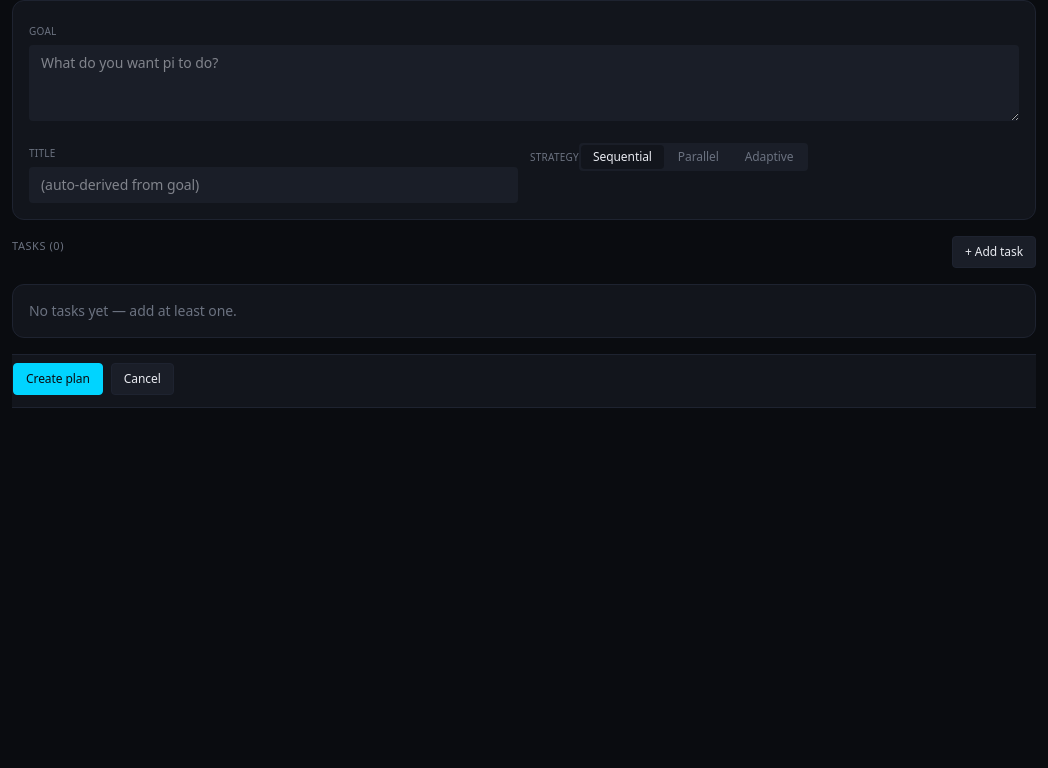
Test: PlanEditor › blocks submit when goal is empty (inline error, no network)
The image size is (1048, 768).
Click the button with test id "add-task": [994, 252] box 952,236 -> 1036,268
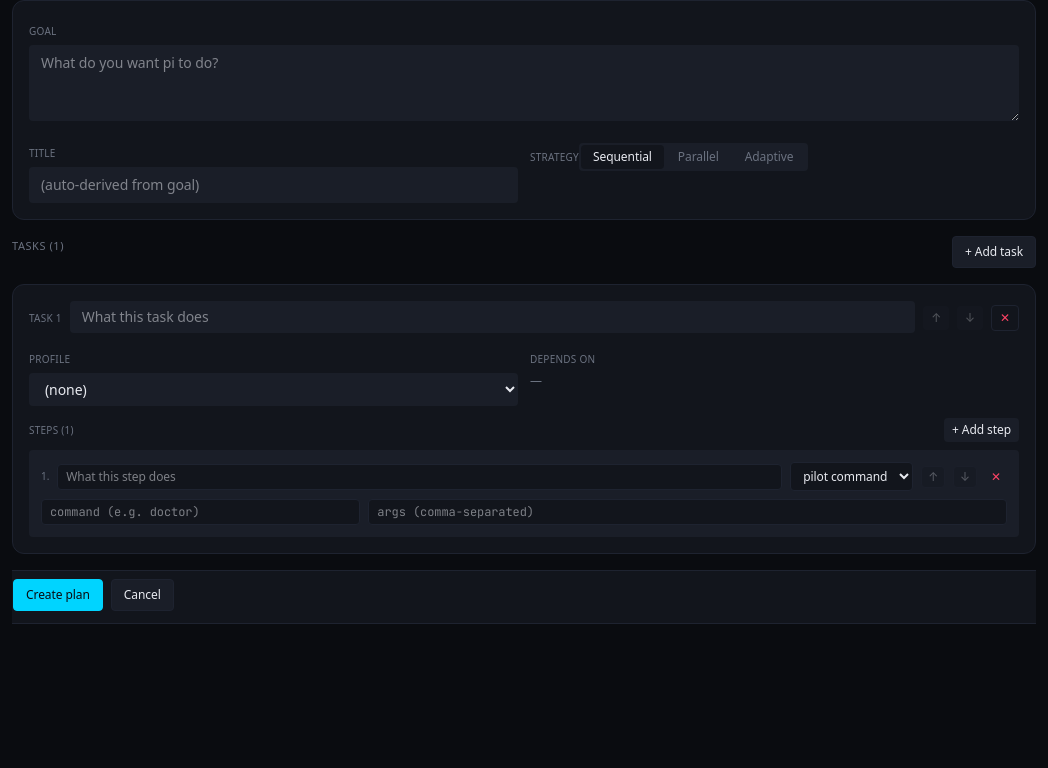
Click the button with test id "submit-plan": [58, 595] box 13,579 -> 103,611
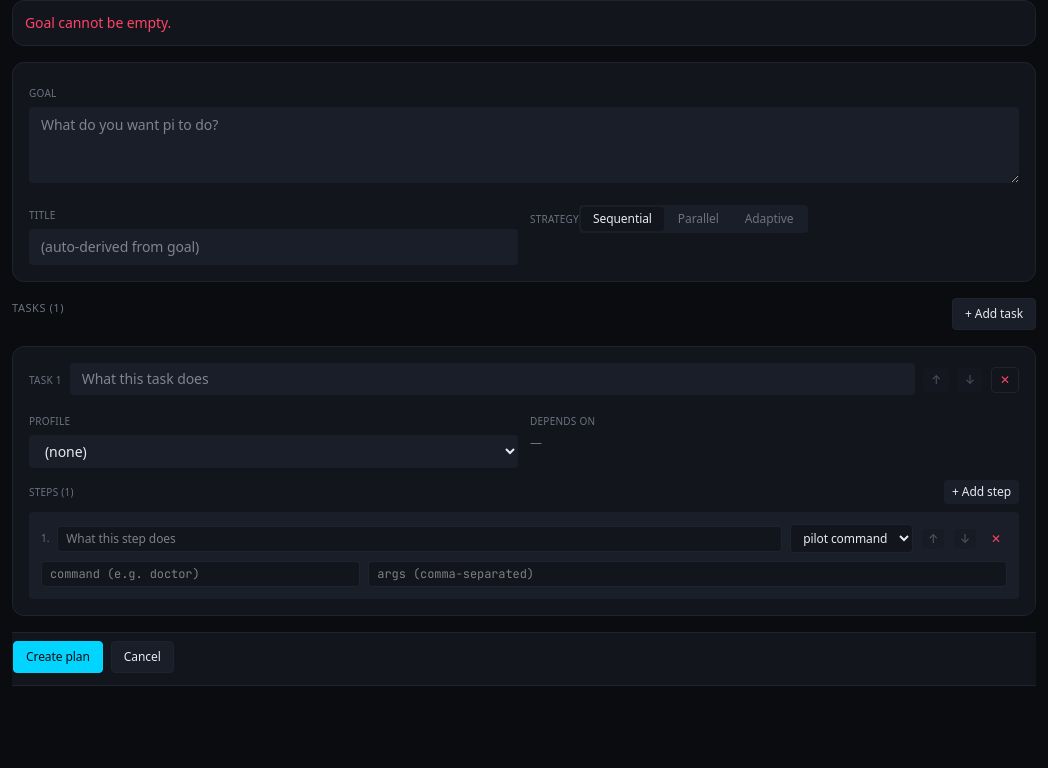
Expected: the message shows "Goal cannot be empty", 25,13 -> 171,32
